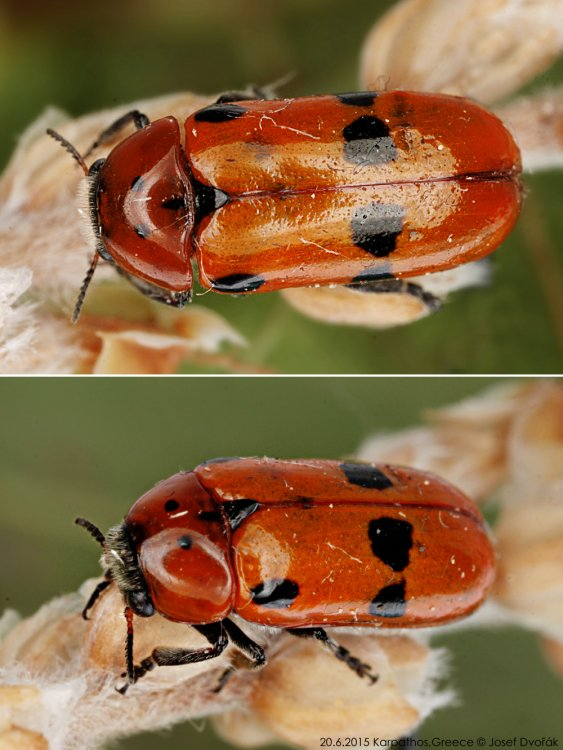Clytra_novempunctata: (41, 54, 528, 338), (69, 435, 499, 694)
